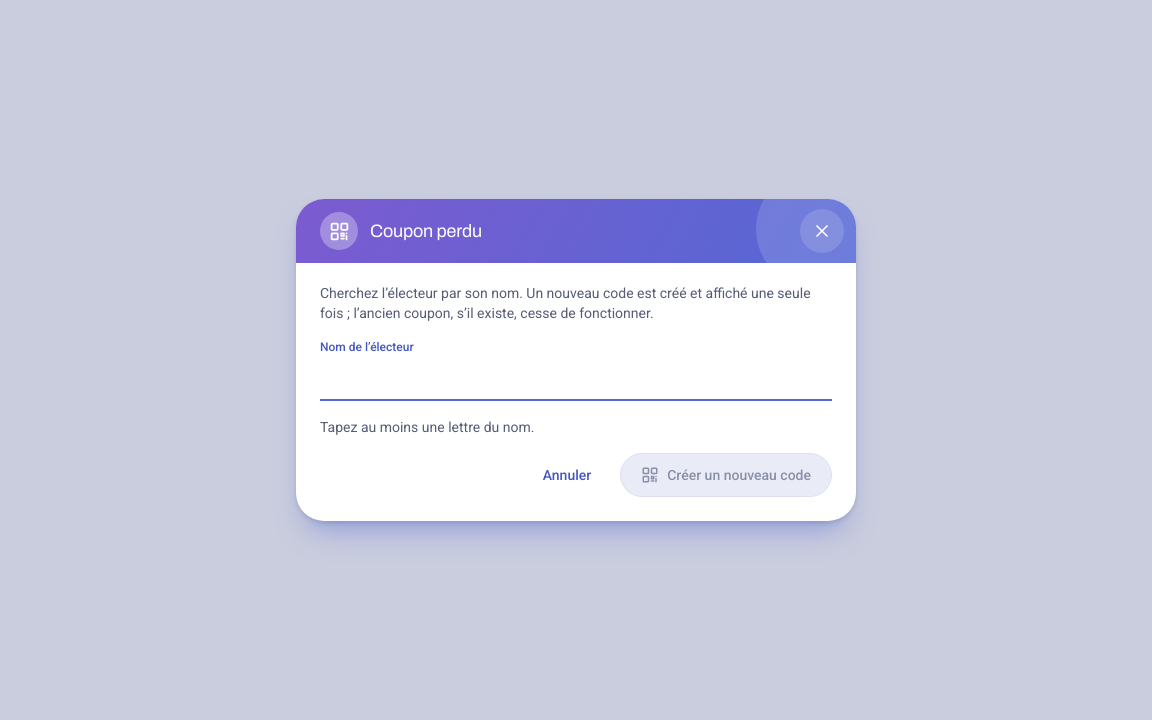
Test: LostSlipDialog email › offers the email choice, unchecked, for a voter who has an address
This screenshot has width=1152, height=720.
Type "Ros" into the search field with test id "lost-search". click: (576, 379)
box: [320, 357, 832, 401]
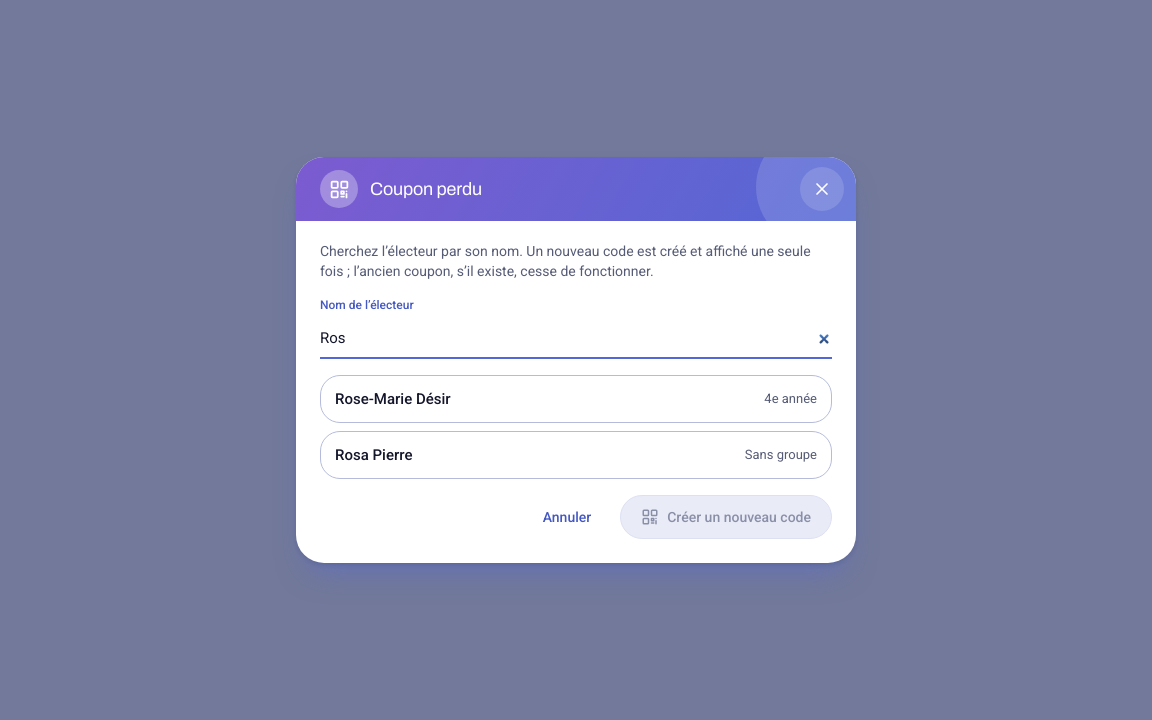
Result: the button with test id "lost-voter-1" is shown
Click the button with test id "lost-voter-1". click: (393, 399)
box: [320, 375, 832, 423]
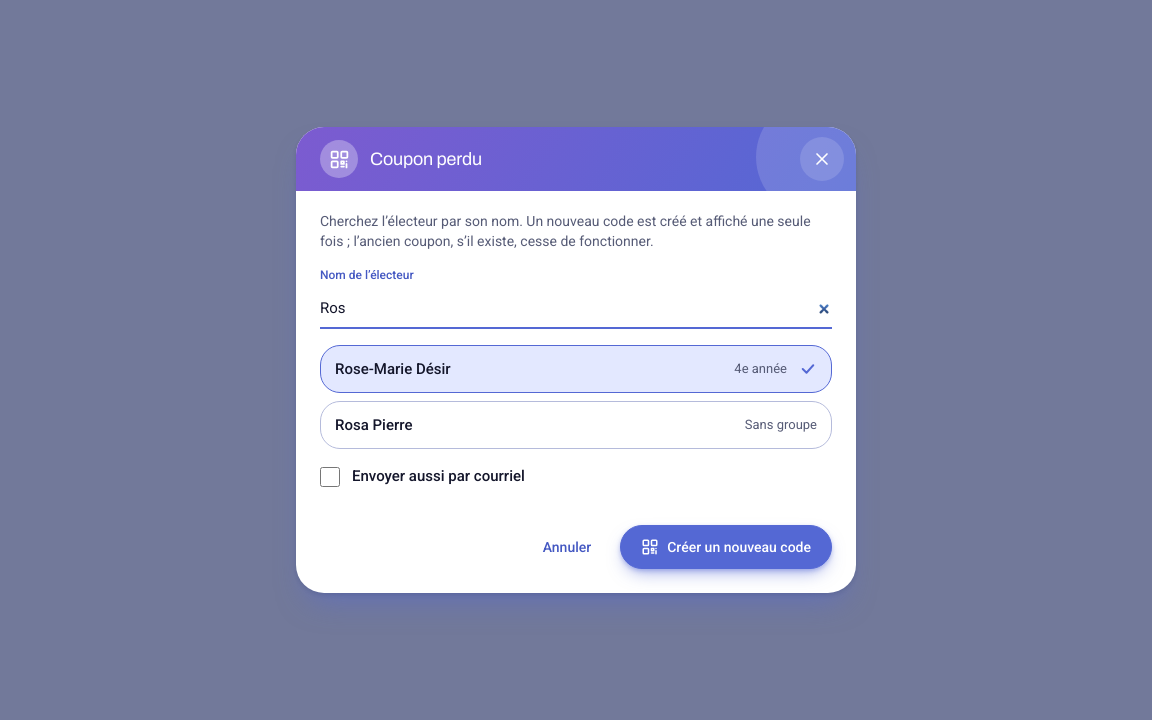
Result: the checkbox with test id "lost-email" is not checked at [320, 467, 340, 487]
Result: the dialog with test id "lost-dialog" shows "Envoyer aussi par courriel" at [352, 467, 525, 485]
Click the button with test id "lost-voter-2". click: (374, 425)
box: [320, 401, 832, 449]
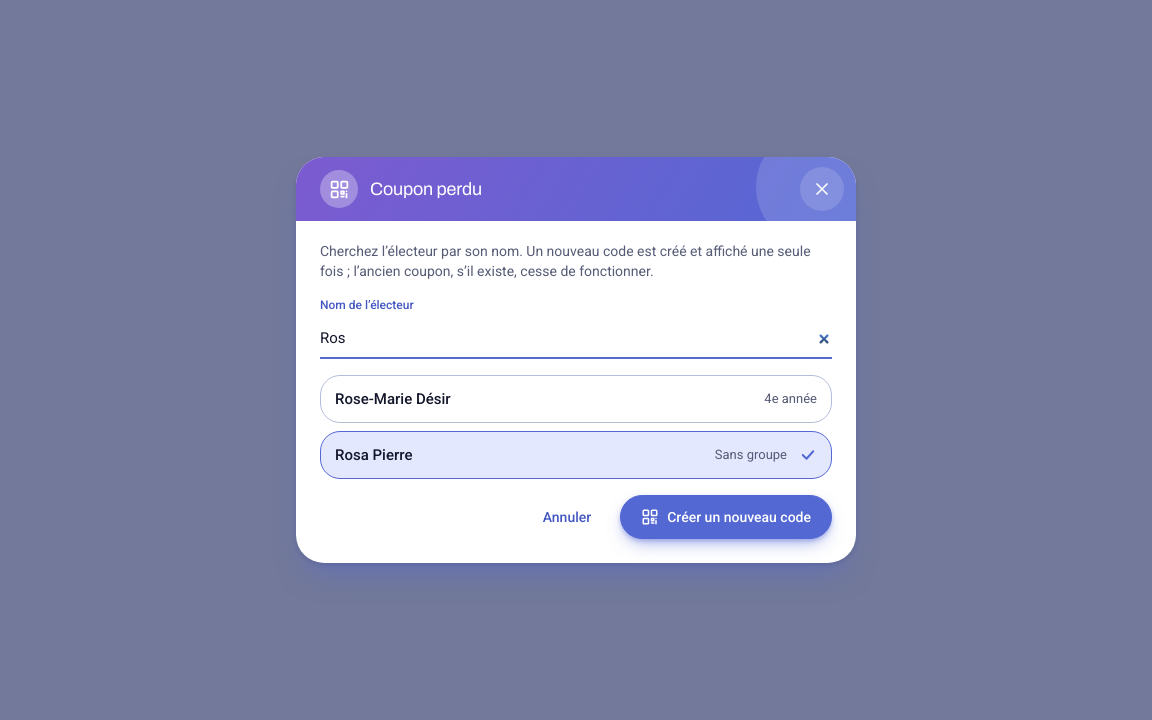
Result: the checkbox with test id "lost-email" is gone
